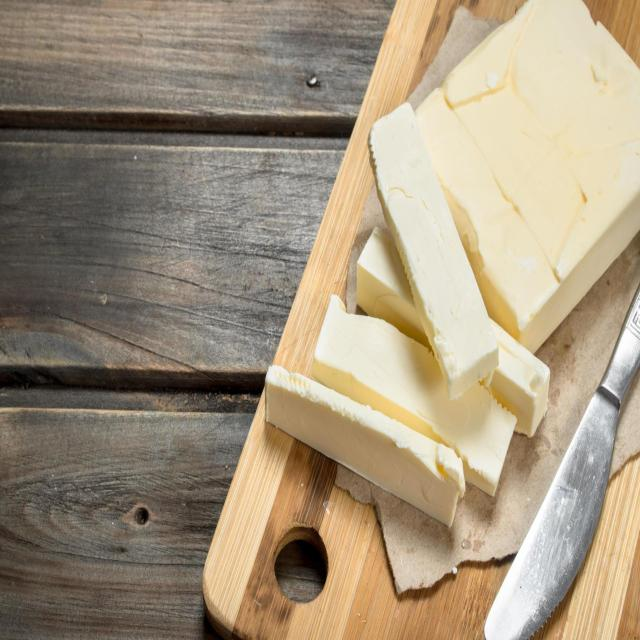Butter: (261, 1, 640, 554)
